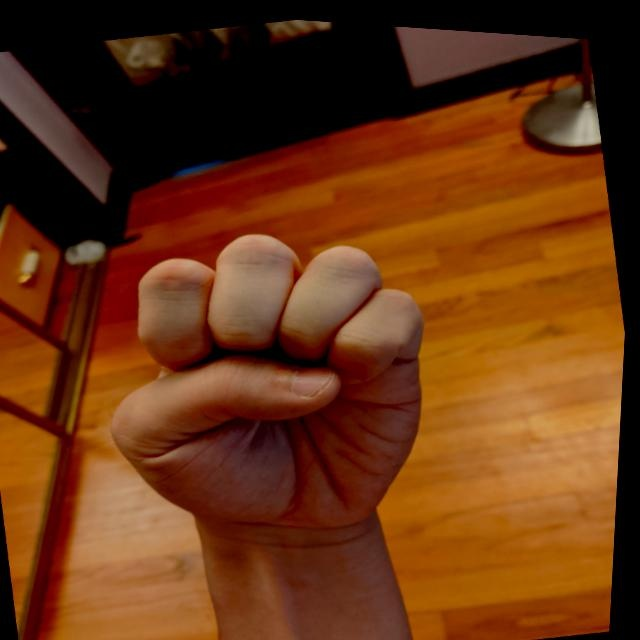E: (72, 187, 472, 562)
